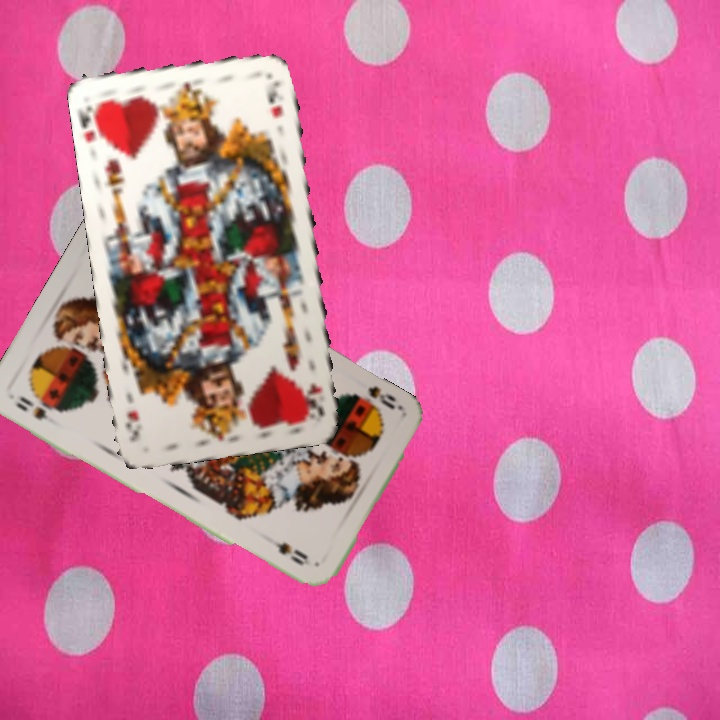HK: (77, 98, 108, 149), (302, 379, 328, 419)
SO: (346, 382, 406, 417), (11, 392, 51, 422)
